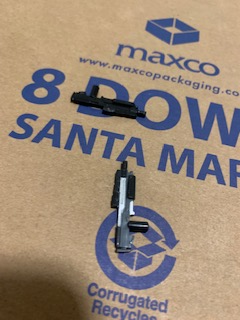rifle: (109, 158, 148, 257), (69, 83, 150, 124)
